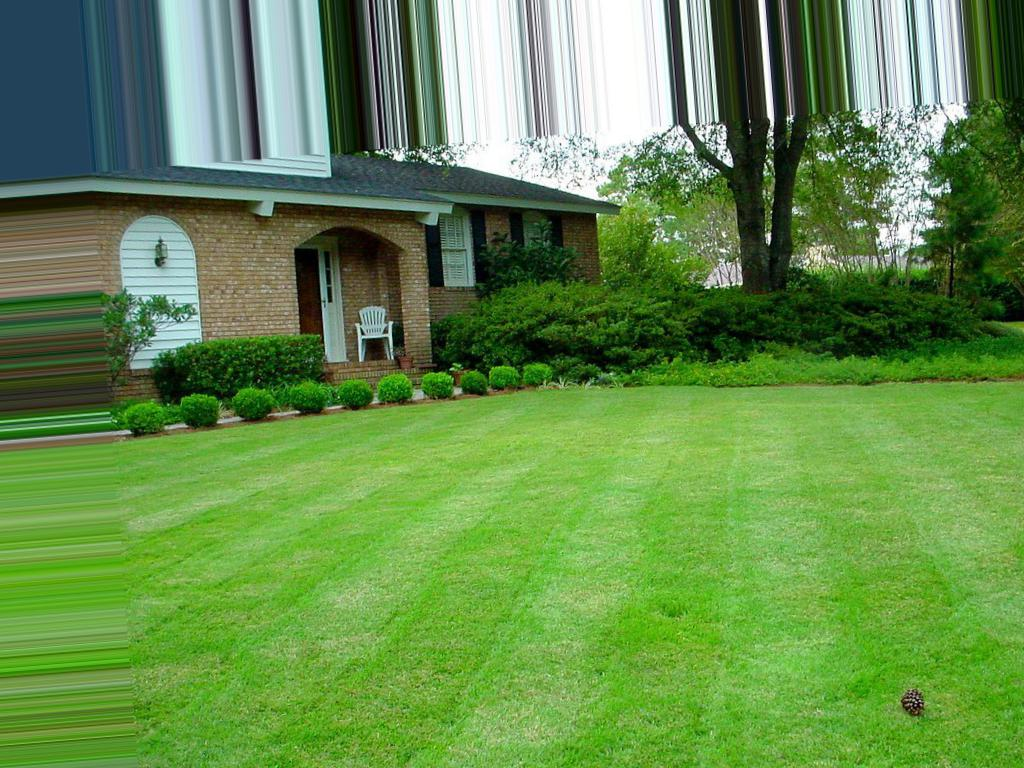patch: (904, 693, 924, 712)
